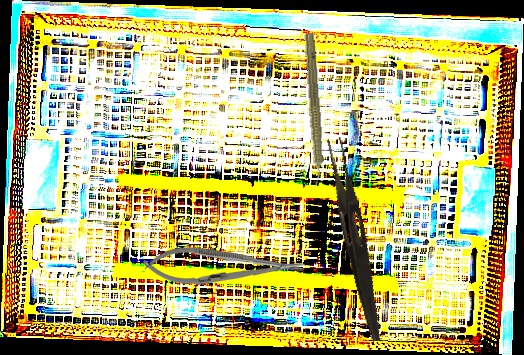Dressing Forceps: (319, 136, 392, 343)
Handpiece: (298, 33, 328, 192)
Needle Holder: (142, 245, 306, 288)
